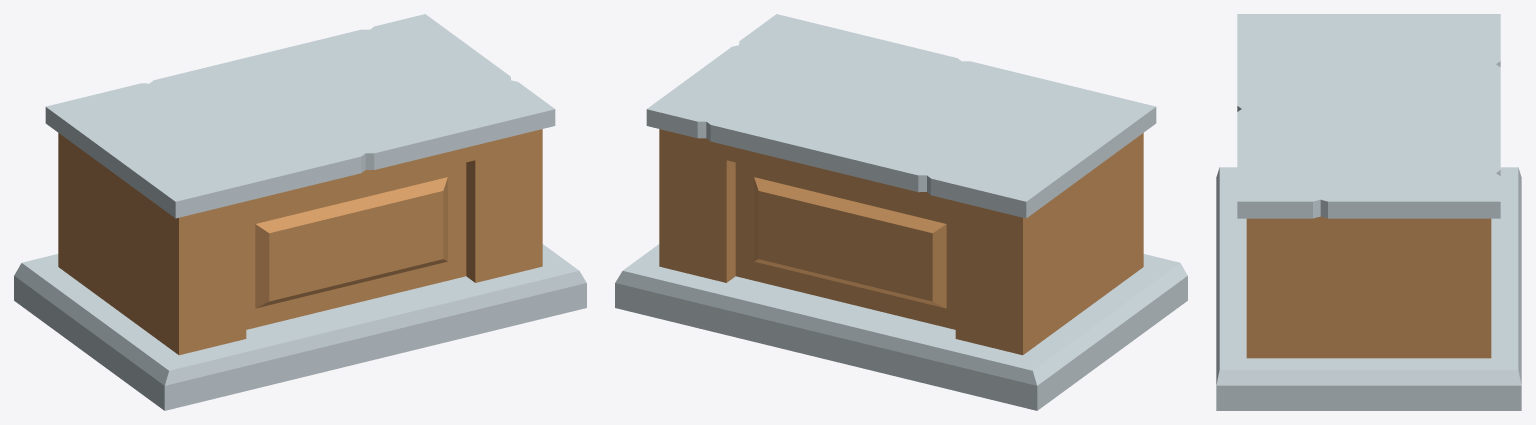
File: altarWood.dae
3 views of the same model, side by side, from view 1: azimuth 30°, elevation 25°; view 2: azimuth 150°, elevation 25°; view 3: azimuth 270°, elevation 25° (orthographic).
Visible parts, largest first — view 1: altarWood; view 2: altarWood; view 3: altarWood.
Boxes of the visible parts, box(x1,y1,x2,y2) form: altarWood: box(14, 14, 586, 410); altarWood: box(615, 14, 1187, 410); altarWood: box(1216, 14, 1521, 410).
Bounding box in the file's own units: 1.06 × 0.47 × 0.6532.
